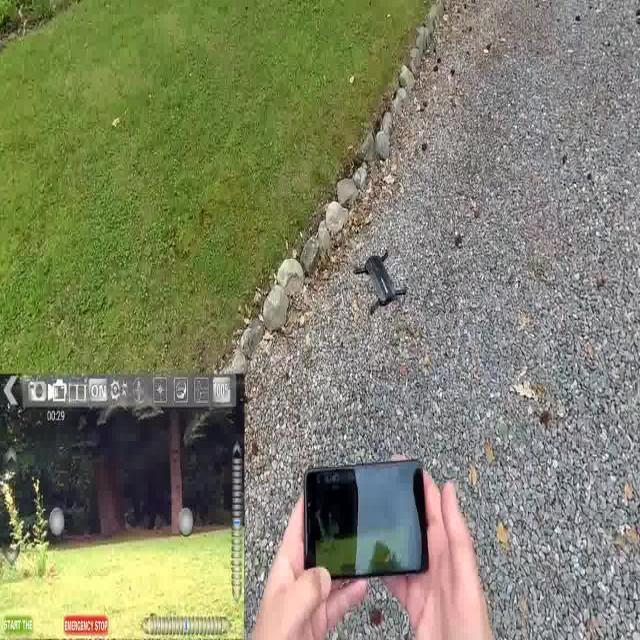drone: (350, 246, 412, 318)
